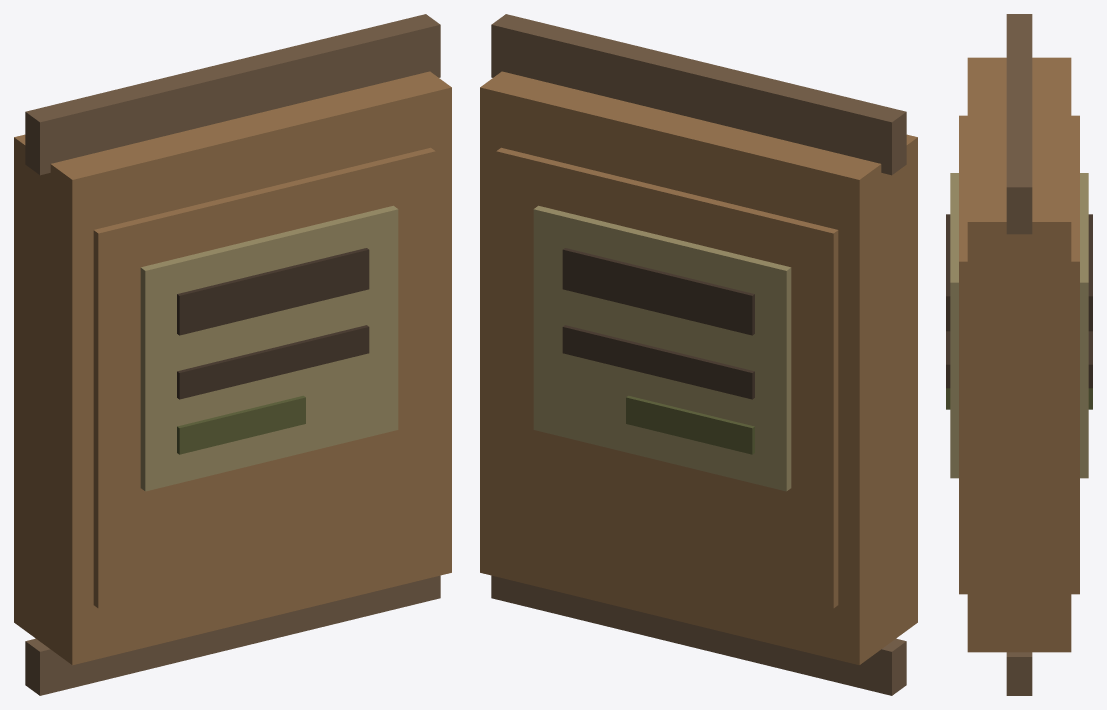
The model's file is army_ration.glb.
The picture shows the model from 3 angles, left to right: view 1: azimuth 30°, elevation 25°; view 2: azimuth 150°, elevation 25°; view 3: azimuth 270°, elevation 25°; orthographic projection. The views are drawn at different scales.
Visible parts, largest first — view 1: army_ration; view 2: army_ration; view 3: army_ration.
Part boxes in pixels (left/top/right/bottom): army_ration: left=14, top=14, right=451, bottom=695; army_ration: left=480, top=14, right=917, bottom=695; army_ration: left=946, top=14, right=1092, bottom=695.
Size of the model in its own units: 0.19 by 0.26 by 0.068.
Materials: 2 (2 with a texture image).
